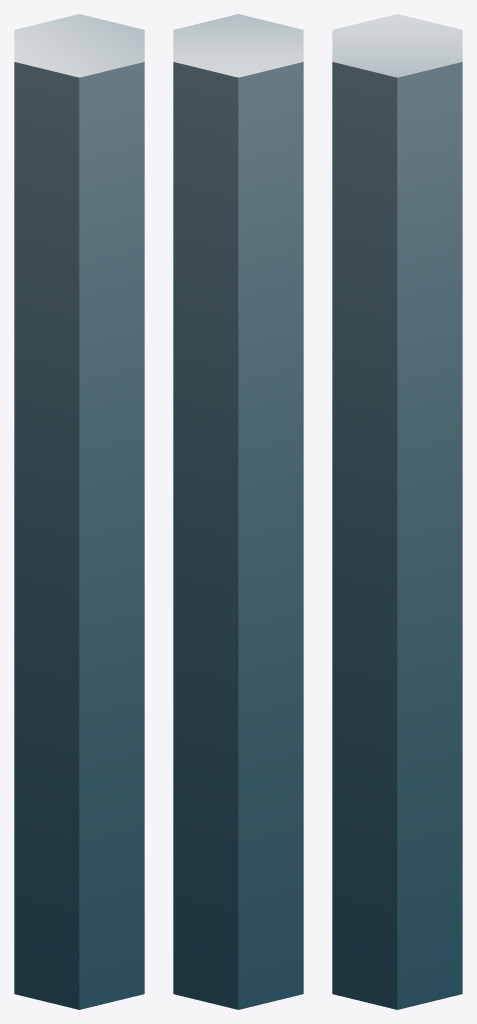
Rendered from MountainLight.fbx.
3 views of the same model, side by side, from view 1: azimuth 90°, elevation 25°; view 2: azimuth 150°, elevation 25°; view 3: azimuth 330°, elevation 25° (orthographic).
Parts seen in each view (by area): view 1: MountainLight_LOD0; view 2: MountainLight_LOD0; view 3: MountainLight_LOD0.
Boxes of the visible parts, x1=… form: MountainLight_LOD0: x1=14, y1=14, x2=144, y2=1009; MountainLight_LOD0: x1=173, y1=14, x2=303, y2=1009; MountainLight_LOD0: x1=332, y1=14, x2=462, y2=1009.
Size of what is drawn, in the model's own units: 500 by 3410 by 433.
